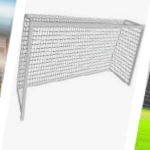goals: (16, 10, 145, 120)
